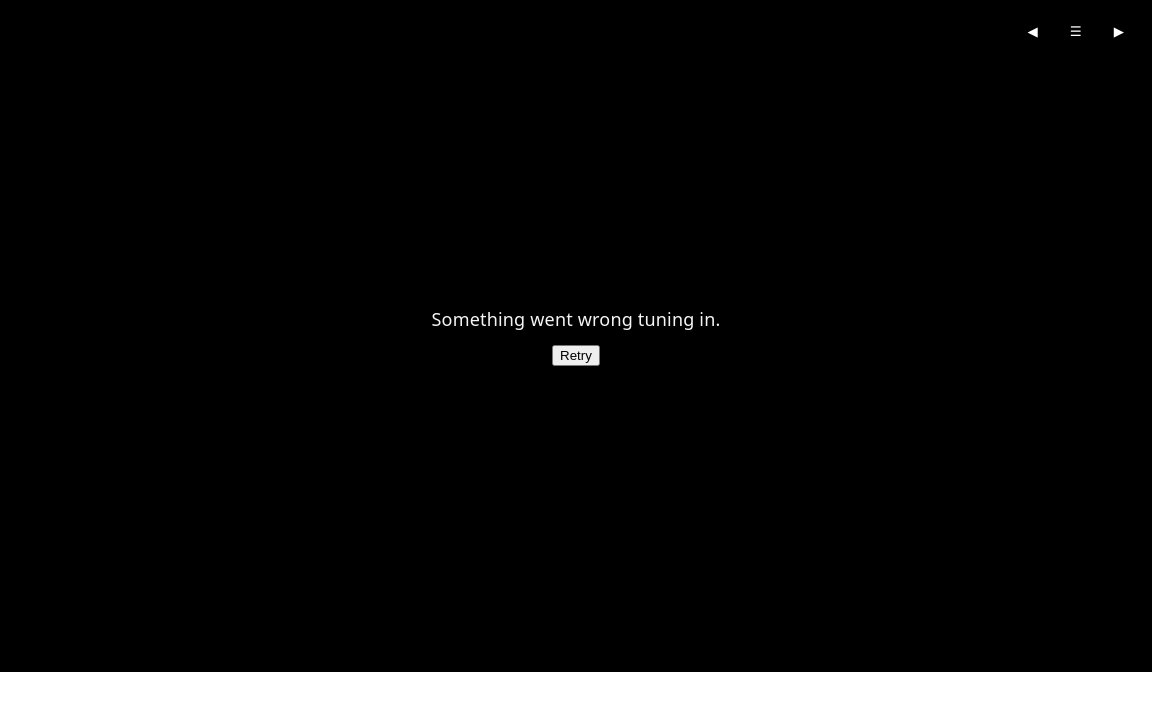
Test: TVScreen › shows an error state with a Retry button when tuning in fails, and retry re-attempts it
The width and height of the screenshot is (1152, 720).
Click the button "Retry". click: (576, 355)
box: [552, 344, 600, 366]
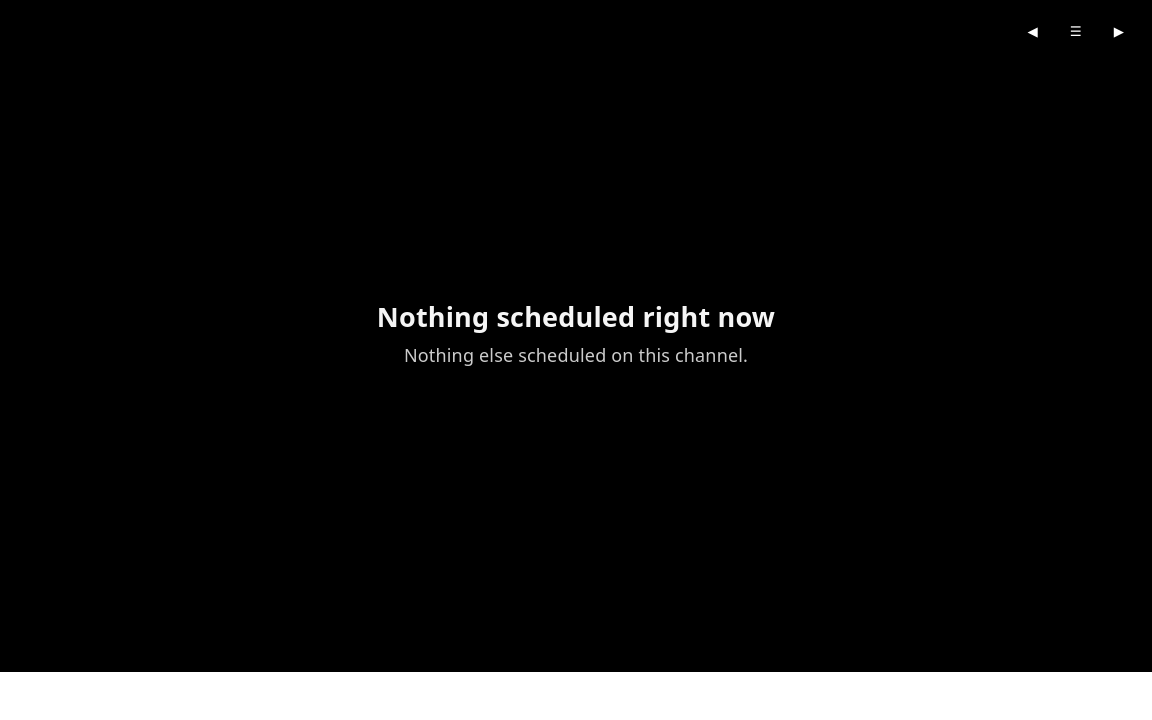
Now the text "Nothing scheduled right now" is shown, box [377, 304, 775, 330]
